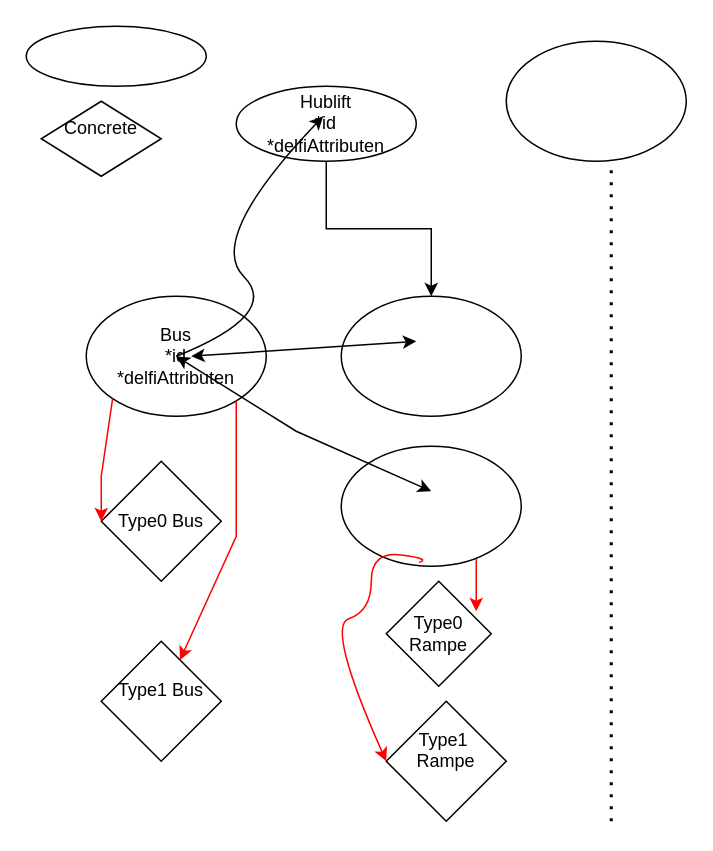
The diagram is 713 pixels wide and 851 high, and some of its shapes have lost their labels. Here are the shapes that lost their labels. From the top down, the centre of each, then its label:
the point at 115,55: Abstract
the point at 595,100: Fahrzeug
the point at 430,355: Tür *id *delfiAttributen
the point at 430,505: Rampe *id *delfiAttributen
